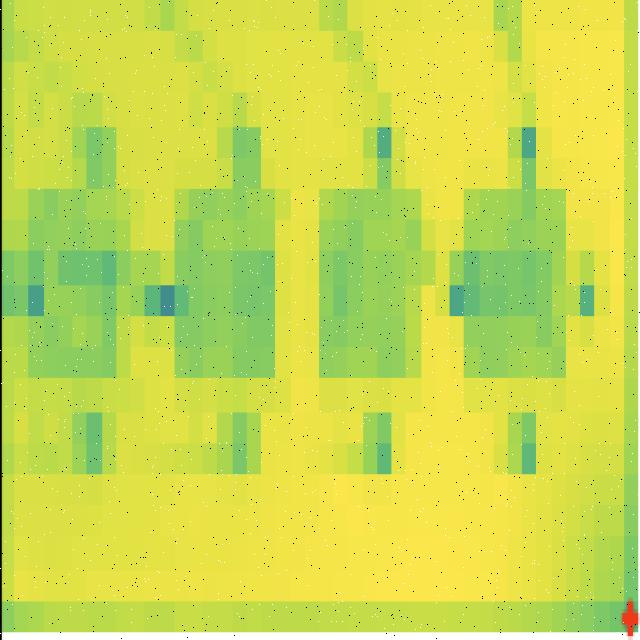Concrete: (161, 164, 289, 395)
Glass: (24, 179, 136, 398)
Metal: (308, 154, 431, 396)
Wood: (449, 140, 576, 403)
